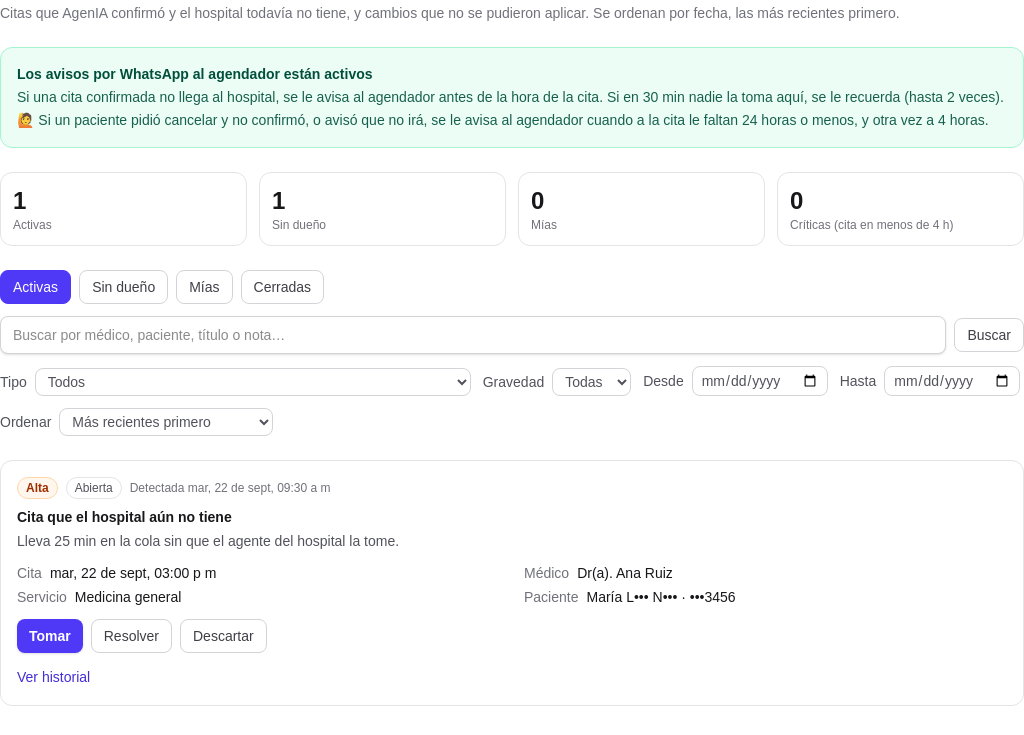
BandejaClient — historial y detalle › «Ver historial» pide el detalle y lo muestra, con quién hizo cada cosa
Click the button "Ver historial" at [54, 676], box x1=17 y1=666 x2=90 y2=686
(page scrolled)
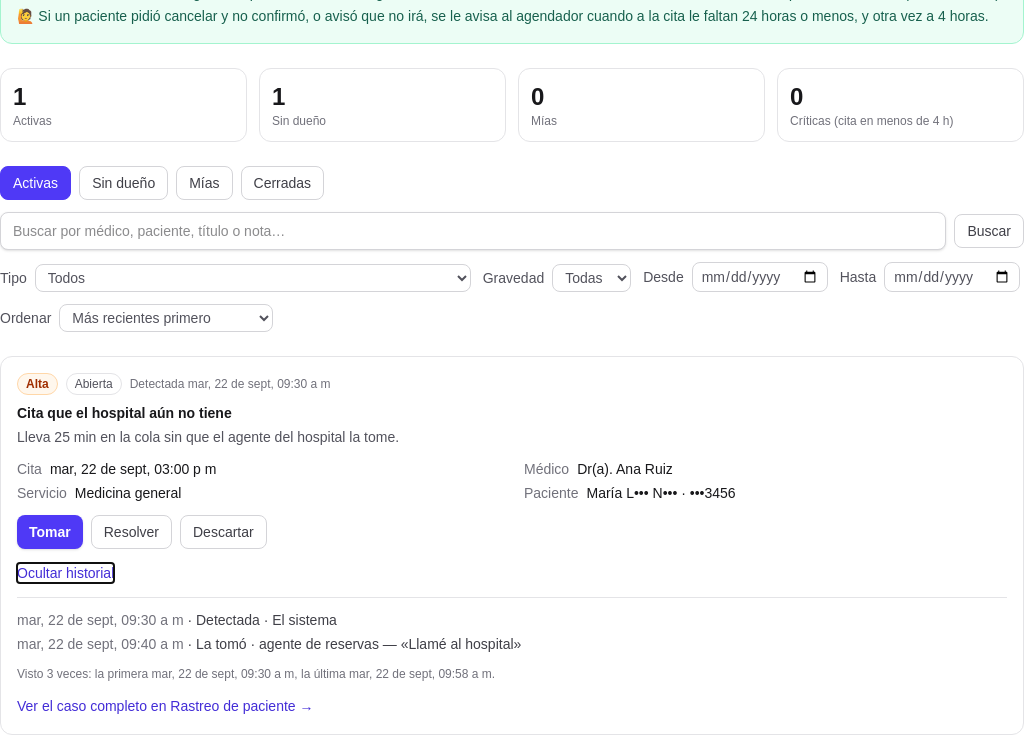
Expected: the list item "mar, 22 de sept, 09:30 a m · Detectada · El sistema" is shown, x1=17 y1=612 x2=337 y2=628
Expected: the list item "La tomó · agente de reservas — «Llamé al hospital»" is shown, x1=17 y1=636 x2=521 y2=652
Expected: the text "Visto 3 veces" is shown, x1=17 y1=666 x2=495 y2=680
